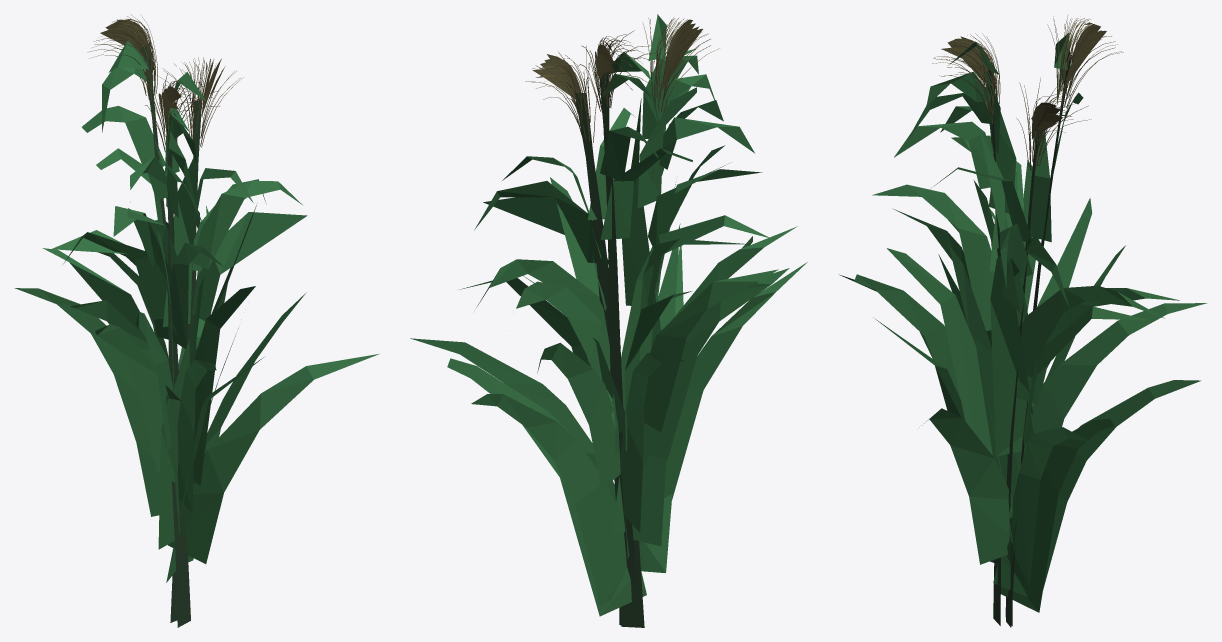
File: CornBush.fbx
3 views of the same model, side by side, from view 1: azimuth 30°, elevation 25°; view 2: azimuth 150°, elevation 25°; view 3: azimuth 270°, elevation 25° (orthographic). The views are drawn at different scales.
Visible parts, largest first — view 1: cornBushy1Leaf, cornBushy1Flower, cornBushy1Main; view 2: cornBushy1Leaf, cornBushy1Main, cornBushy1Flower; view 3: cornBushy1Leaf, cornBushy1Flower, cornBushy1Main.
Boxes of the visible parts, x1,y1,x2,y2 form: cornBushy1Leaf: (14, 40, 378, 588); cornBushy1Flower: (87, 14, 243, 151); cornBushy1Main: (142, 45, 201, 627); cornBushy1Leaf: (410, 14, 807, 616); cornBushy1Main: (575, 72, 644, 627); cornBushy1Flower: (525, 14, 719, 142); cornBushy1Leaf: (839, 33, 1207, 612); cornBushy1Flower: (932, 14, 1123, 170); cornBushy1Main: (987, 52, 1071, 627).
Size of the model in its own units: 1.46 by 2.77 by 1.56.
